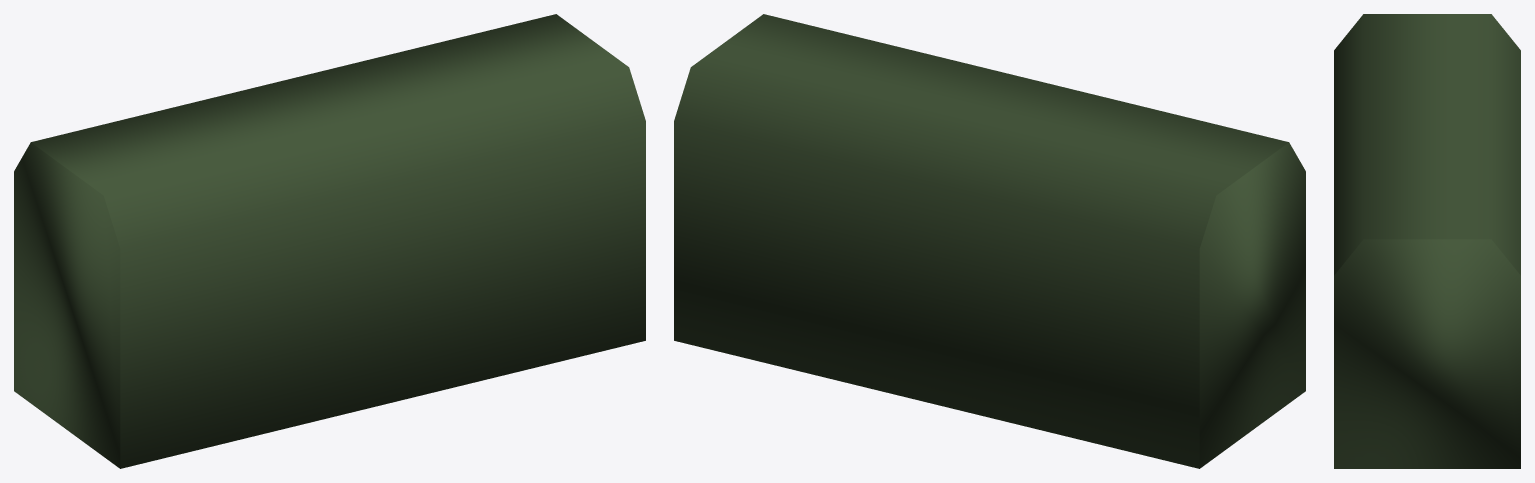
The model's file is site_hedge.fbx.
3 views of the same model, side by side, from view 1: azimuth 30°, elevation 25°; view 2: azimuth 150°, elevation 25°; view 3: azimuth 270°, elevation 25° (orthographic). The views are drawn at different scales.
Visible parts, largest first — view 1: a3008/0/site_hedge; view 2: a3008/0/site_hedge; view 3: a3008/0/site_hedge.
Part boxes in pixels (left/top/right/bottom): a3008/0/site_hedge: left=14, top=14, right=645, bottom=468; a3008/0/site_hedge: left=674, top=14, right=1305, bottom=468; a3008/0/site_hedge: left=1334, top=14, right=1520, bottom=468.
Bounding box in the file's own units: 2 × 0.95 × 0.7.
